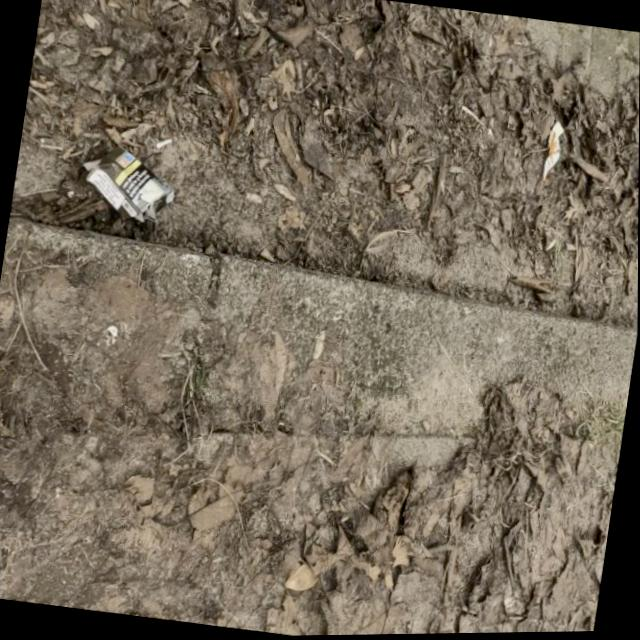Paper: (74, 136, 183, 231)
Plastic: (541, 119, 567, 189)
